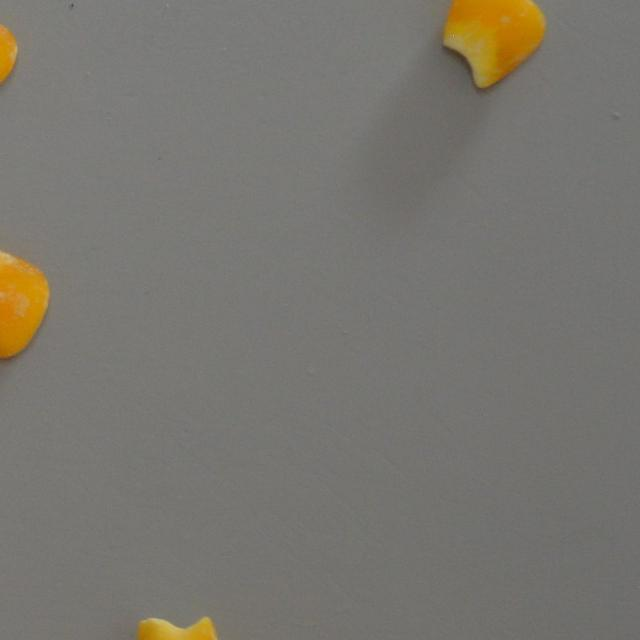no_canjicado: (440, 0, 546, 88), (134, 610, 229, 640)
pelicula: (0, 240, 52, 358), (0, 6, 20, 102)
